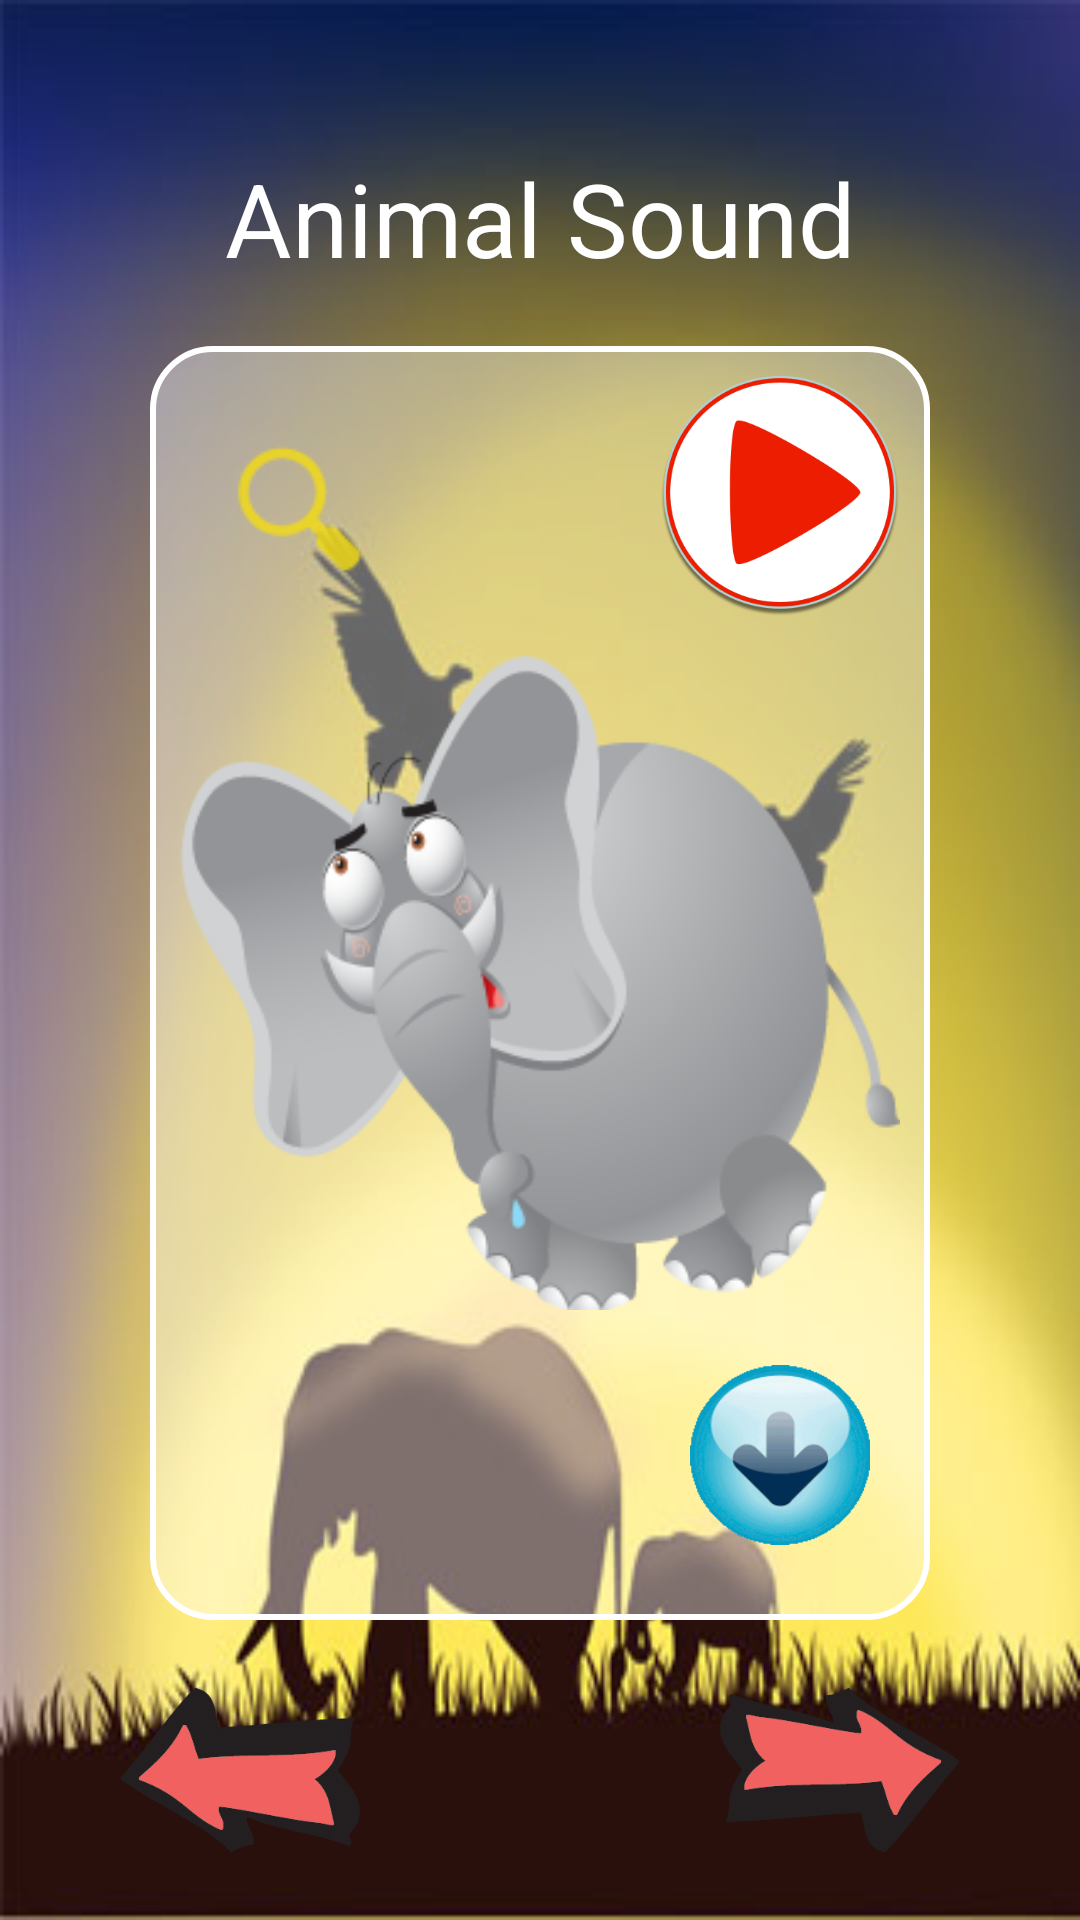

Point at icon controls on the screen. Image size 1080w x 1920h, points as (x,y).
download: (780,1455)
search: (300,511)
start: (780,496)
